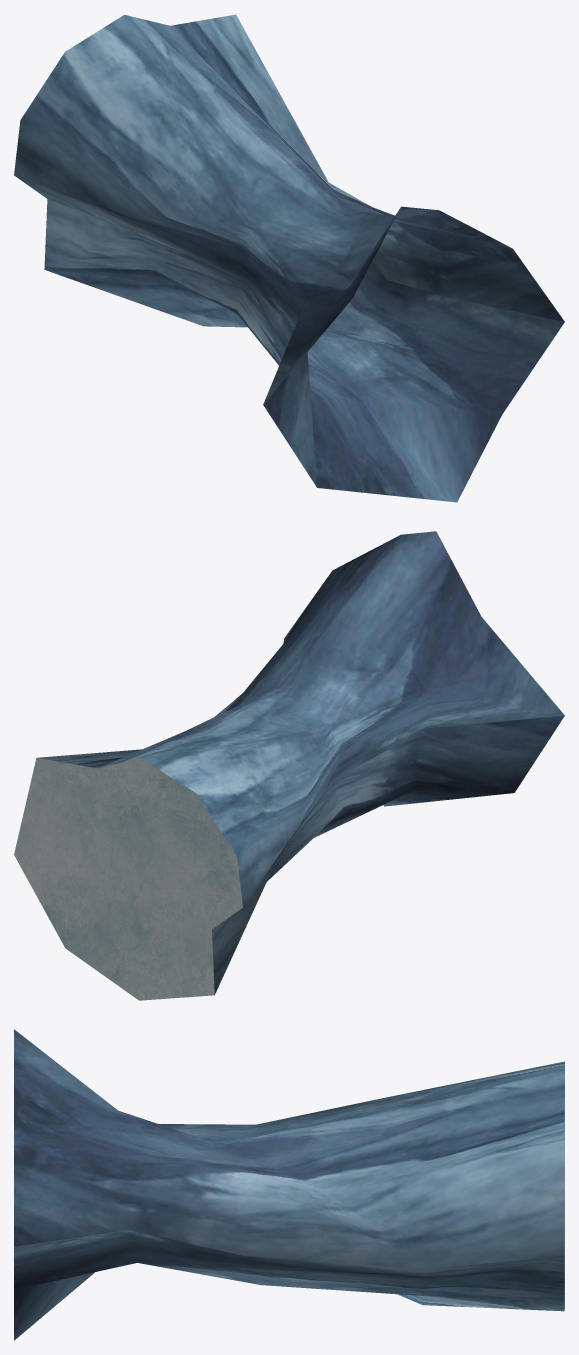
3 renders of one model, top to bottom at view 1: azimuth 30°, elevation 25°; view 2: azimuth 150°, elevation 25°; view 3: azimuth 270°, elevation 25°, orthographic. The views are drawn at different scales.
Visible parts, largest first — view 1: Object09; view 2: Object09; view 3: Object09.
Boxes of the visible parts, x1,y1,x2,y2 form: Object09: (14,14,564,502); Object09: (14,531,564,1000); Object09: (14,1029,564,1340).
Size of the model in its own units: 27873 by 27307 by 47598.
